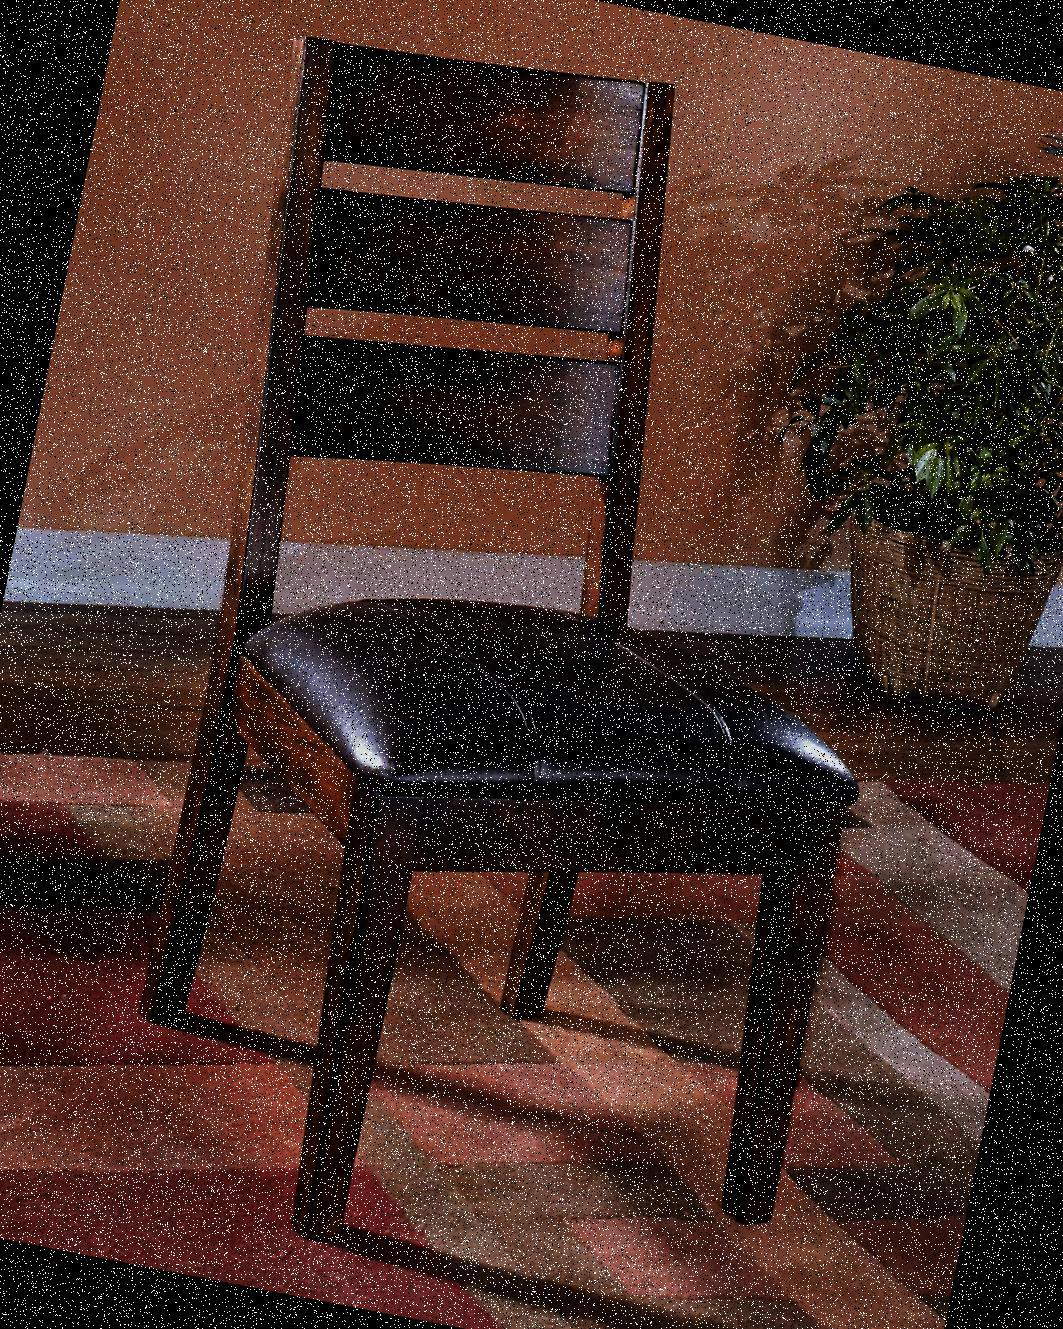Silla: (90, 20, 984, 1318)
